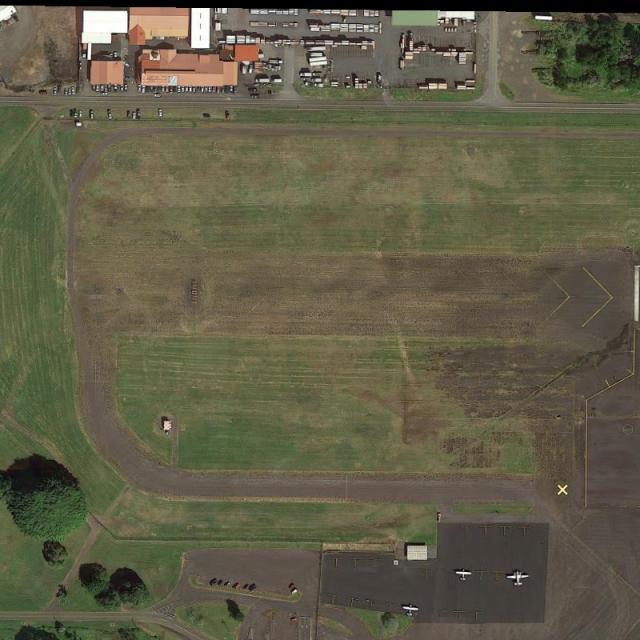vehicle: (269, 59, 283, 65), (256, 79, 270, 84), (82, 42, 86, 58), (211, 578, 218, 586), (123, 60, 130, 67), (12, 14, 18, 22), (76, 86, 80, 95), (250, 65, 254, 74), (5, 20, 11, 26), (222, 86, 226, 94), (234, 86, 238, 94), (226, 86, 230, 94), (218, 580, 223, 586), (114, 84, 118, 91), (91, 111, 95, 118), (114, 52, 118, 59), (230, 86, 234, 93), (1, 24, 5, 31), (109, 84, 112, 93), (54, 86, 57, 95), (289, 585, 294, 590), (204, 86, 208, 92), (201, 85, 204, 93), (162, 86, 166, 92), (138, 86, 142, 92), (208, 86, 212, 92), (213, 86, 217, 92), (226, 112, 230, 118), (204, 114, 210, 118), (109, 111, 112, 119), (79, 110, 82, 118), (74, 110, 77, 118), (70, 110, 74, 116), (58, 86, 61, 94), (110, 53, 114, 59), (292, 590, 298, 594), (193, 85, 196, 92), (170, 87, 173, 94), (166, 86, 169, 93), (143, 86, 146, 93), (154, 94, 161, 97), (105, 85, 108, 92), (96, 84, 99, 91), (218, 86, 221, 93), (159, 110, 162, 117), (138, 111, 141, 118), (72, 87, 75, 94), (154, 86, 158, 91), (178, 87, 182, 92), (150, 86, 154, 91), (146, 86, 150, 91), (101, 86, 105, 91), (197, 85, 200, 91), (182, 86, 185, 92), (120, 85, 123, 91), (101, 93, 107, 96), (133, 112, 136, 118), (127, 112, 130, 118), (93, 85, 96, 91), (252, 95, 258, 98), (250, 89, 256, 92), (244, 65, 246, 73), (186, 86, 189, 91), (159, 87, 162, 92), (125, 86, 128, 91), (65, 88, 67, 95), (190, 86, 192, 92), (40, 92, 46, 94), (69, 88, 70, 95)
